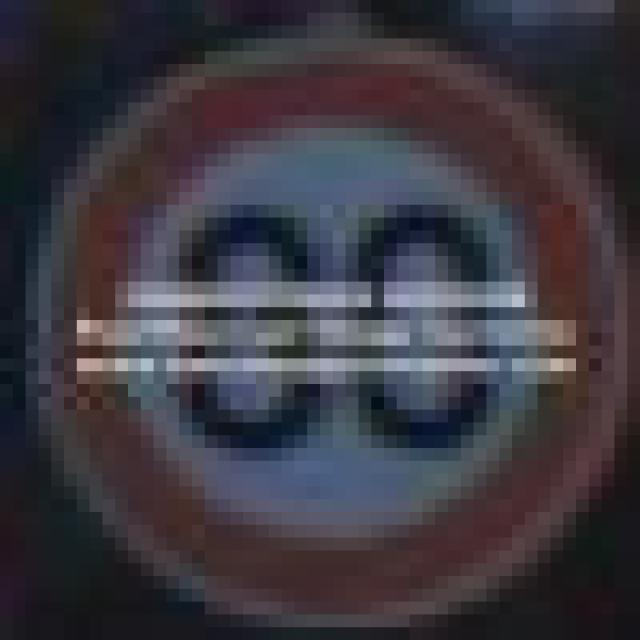speed_limit_50: (38, 51, 614, 602)
